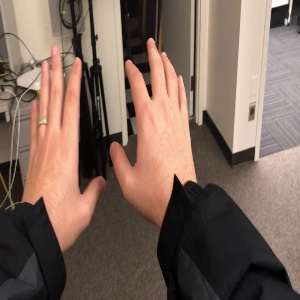hand: (27, 44, 106, 226), (110, 37, 194, 187)
